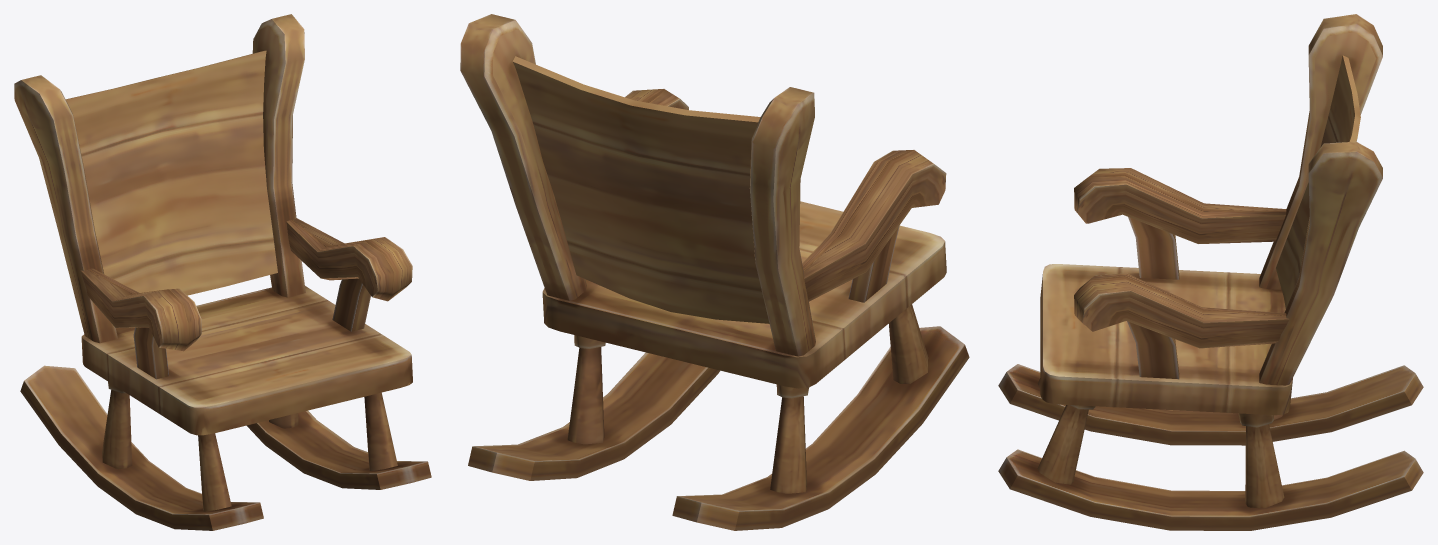
The model's file is CountryRockingChair_HD.fbx.
3 views of the same model, side by side, from view 1: azimuth 30°, elevation 25°; view 2: azimuth 150°, elevation 25°; view 3: azimuth 270°, elevation 25° (orthographic). The views are drawn at different scales.
Parts seen in each view (by area): view 1: CountryRockingChair; view 2: CountryRockingChair; view 3: CountryRockingChair.
Part boxes in pixels (x1,y1,x2,y2): CountryRockingChair: (14, 14, 431, 530); CountryRockingChair: (460, 14, 969, 530); CountryRockingChair: (998, 14, 1423, 530).
Size of the model in its own units: 0.7591 by 0.9963 by 0.9793.
